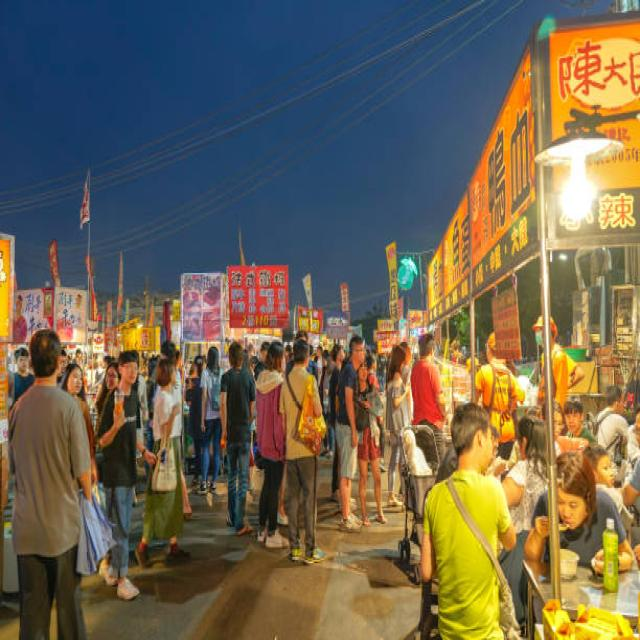Emperan: (380, 0, 640, 640)
